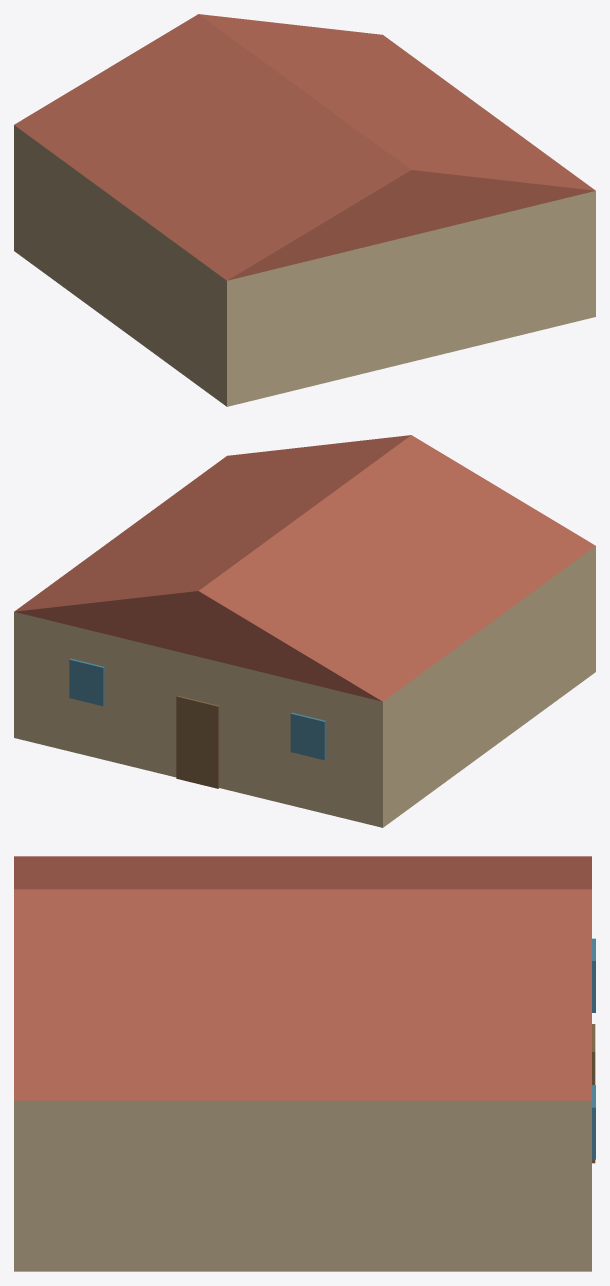
Rendered from cow_barn.glb.
3 renders of one model, top to bottom at view 1: azimuth 30°, elevation 25°; view 2: azimuth 150°, elevation 25°; view 3: azimuth 270°, elevation 25°, orthographic. The views are drawn at different scales.
Size of the model in its own units: 7.04 by 3.5 by 7.09.
